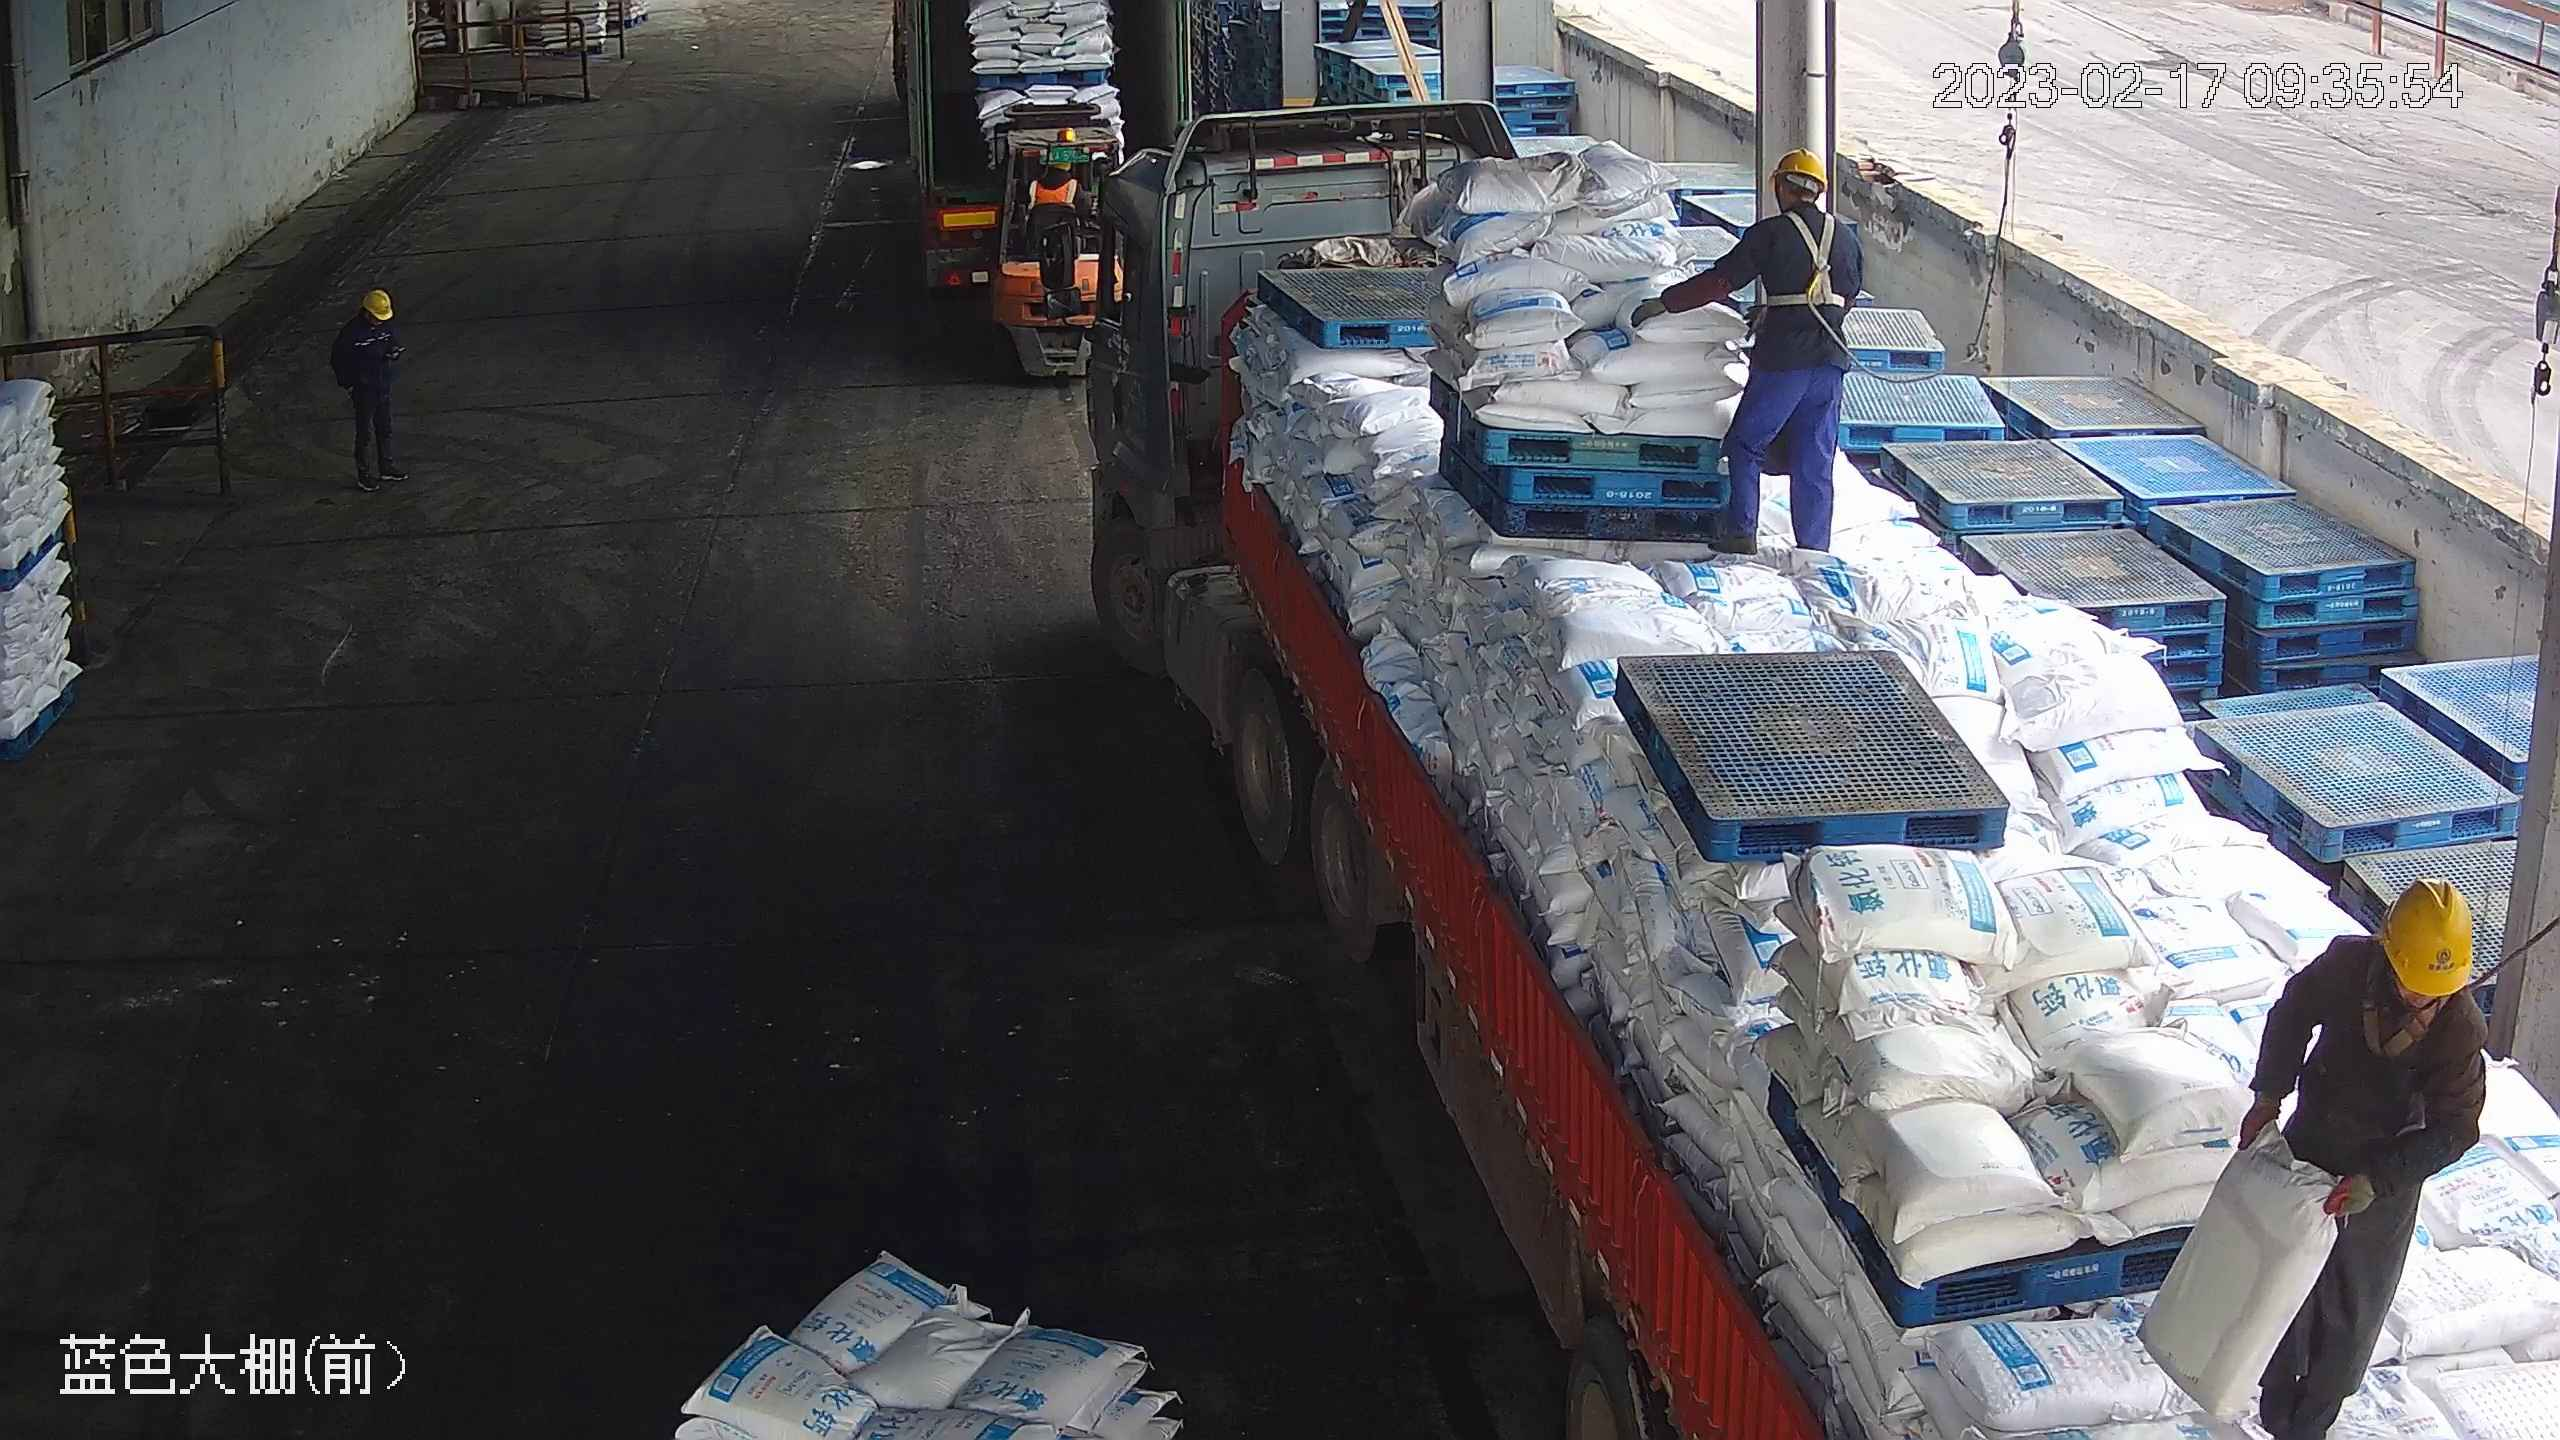belt: (2352, 938, 2495, 1052), (1758, 209, 1854, 316)
head: (2290, 878, 2491, 1051), (1742, 148, 1859, 255), (334, 286, 399, 351)
helmet: (2376, 874, 2481, 995), (1772, 147, 1828, 191), (362, 286, 393, 316)
people: (2170, 876, 2490, 1437), (1635, 145, 1860, 561), (332, 286, 412, 492)
truck: (1064, 143, 2550, 1439), (875, 1, 1206, 336)
